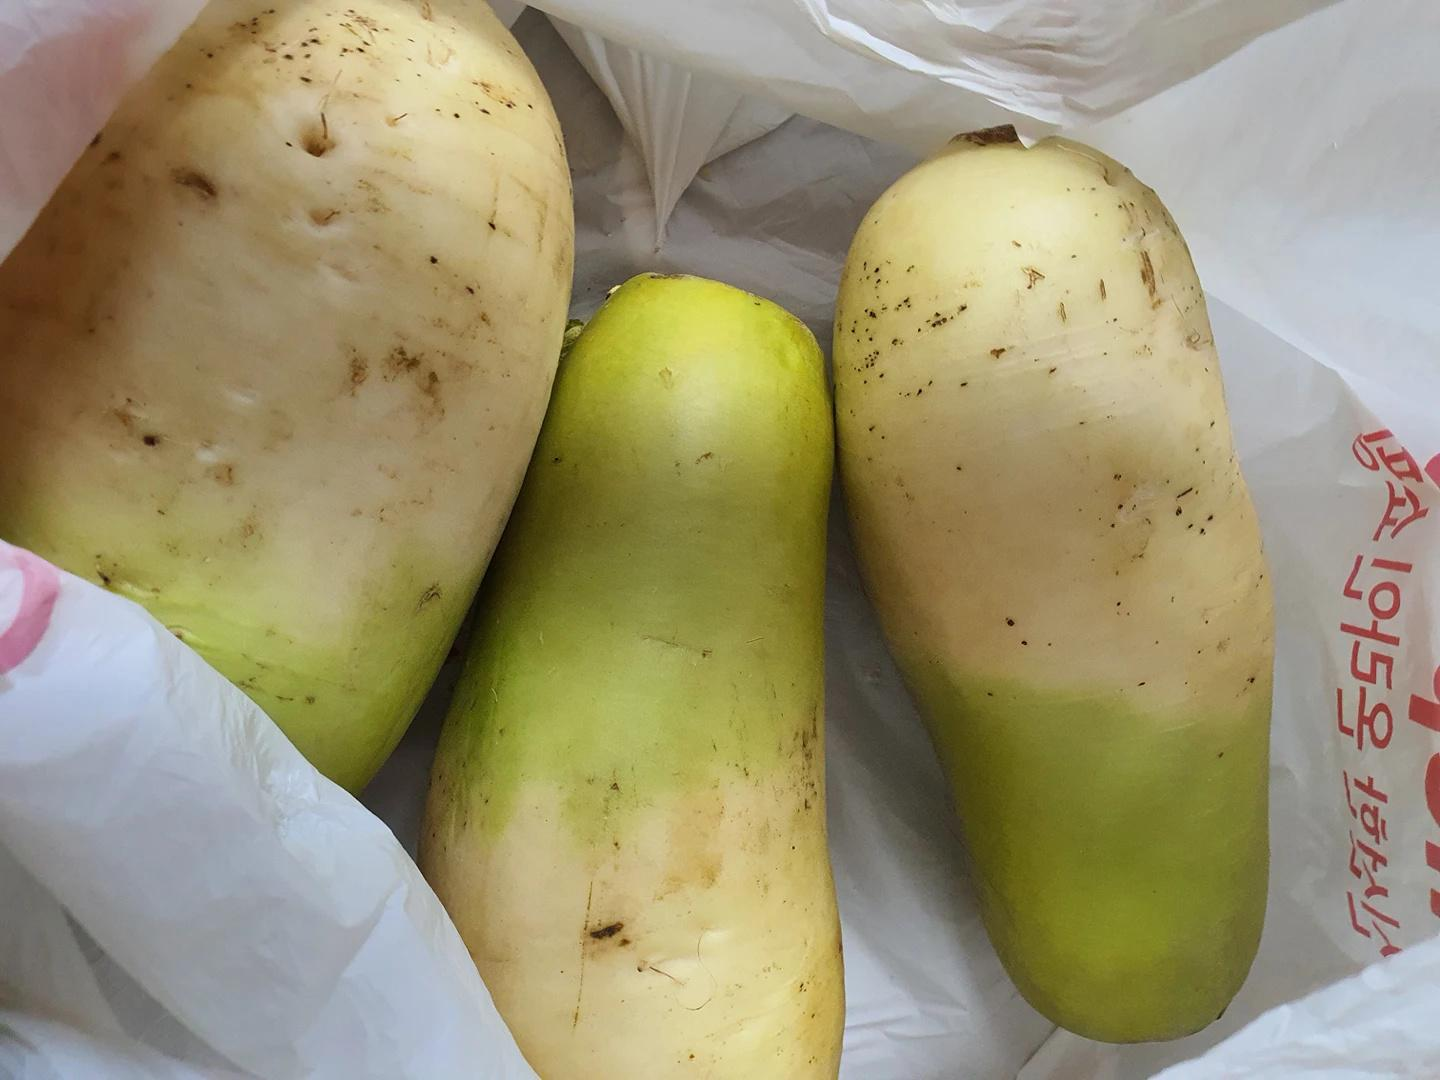radish: (1083, 454, 1440, 1080), (1153, 540, 1440, 1080)
